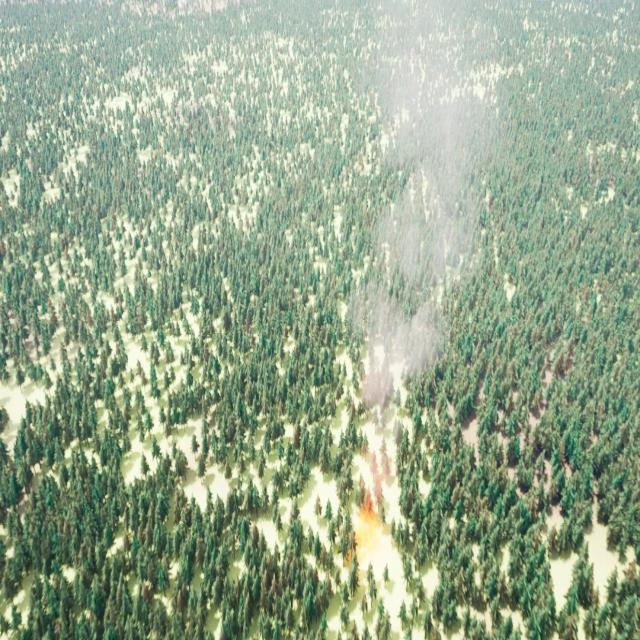fire: (349, 501, 377, 554)
smoke: (352, 0, 504, 506)
